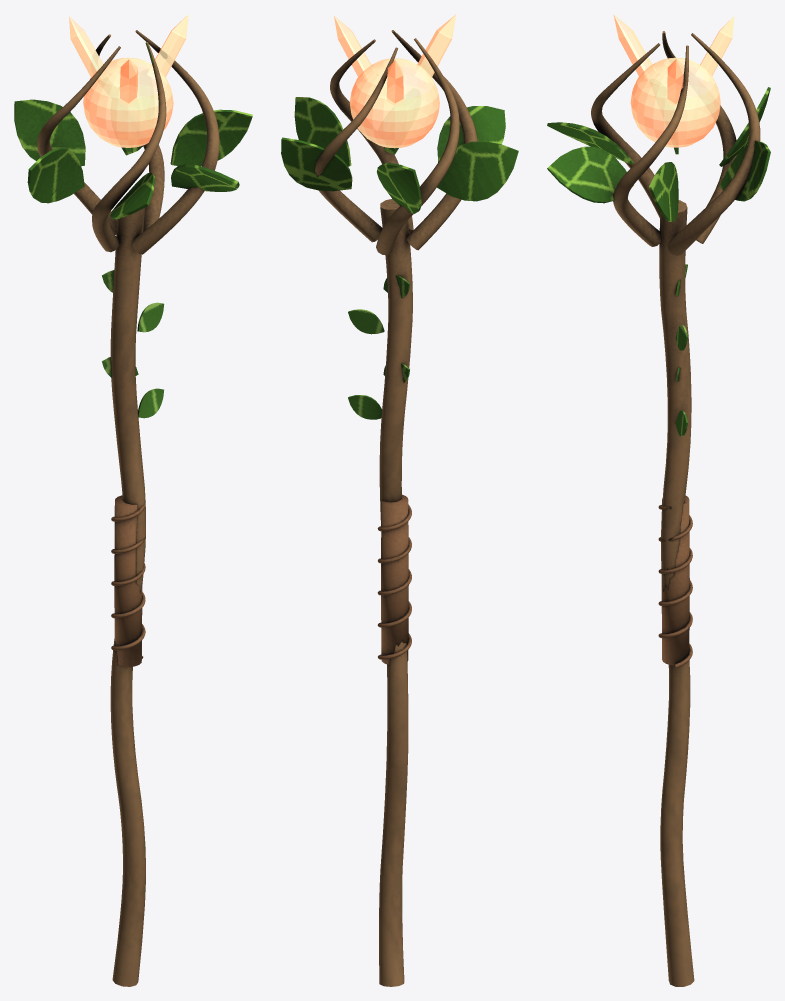
The model's file is arma_lend_foco_natural_fogo.glb.
The picture shows the model from 3 angles, left to right: view 1: azimuth 30°, elevation 25°; view 2: azimuth 150°, elevation 25°; view 3: azimuth 270°, elevation 25°; orthographic projection.
Parts seen in each view (by area): view 1: arma_lend_foco_natural_fogo, Sphere, brot0, brot1, brot2; view 2: arma_lend_foco_natural_fogo, Sphere, brot2, brot0, brot1; view 3: arma_lend_foco_natural_fogo, Sphere, brot2, brot1, brot0.
Part boxes in pixels (x1=…): arma_lend_foco_natural_fogo: x1=14, y1=30, x2=252, y2=986; Sphere: x1=83, y1=57, x2=173, y2=147; brot0: x1=147, y1=14, x2=188, y2=82; brot1: x1=69, y1=16, x2=108, y2=81; brot2: x1=119, y1=59, x2=137, y2=105; arma_lend_foco_natural_fogo: x1=281, y1=30, x2=518, y2=986; Sphere: x1=349, y1=58, x2=439, y2=148; brot2: x1=413, y1=14, x2=456, y2=82; brot0: x1=334, y1=15, x2=375, y2=82; brot1: x1=386, y1=59, x2=403, y2=105; arma_lend_foco_natural_fogo: x1=547, y1=31, x2=770, y2=986; Sphere: x1=630, y1=57, x2=720, y2=147; brot2: x1=613, y1=14, x2=656, y2=81; brot1: x1=695, y1=16, x2=734, y2=81; brot0: x1=667, y1=59, x2=683, y2=105.
Size of the model in its own units: 0.4367 by 1.78 by 0.3793.
Materials: 5 (1 with a texture image).
